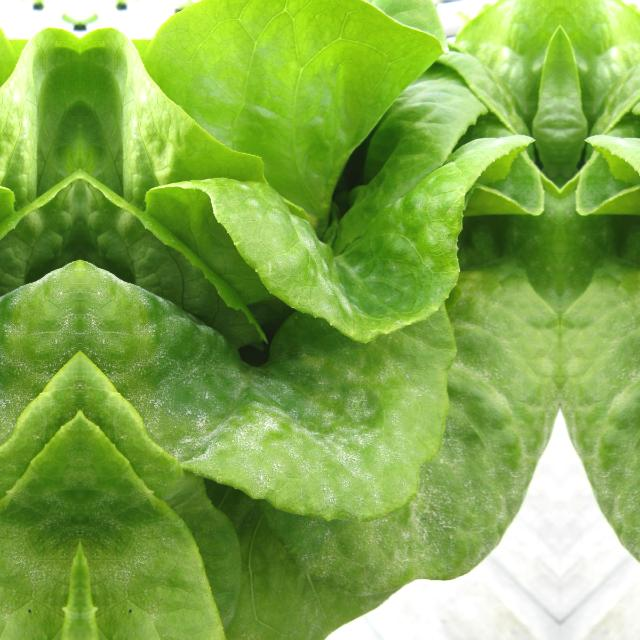Downy_mildew: (80, 0, 558, 640), (0, 0, 80, 640), (562, 0, 640, 640)
